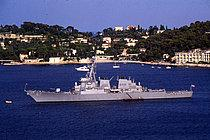MIL_Ship: (24, 64, 194, 101)
